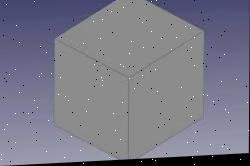cube: (51, 0, 205, 164)
